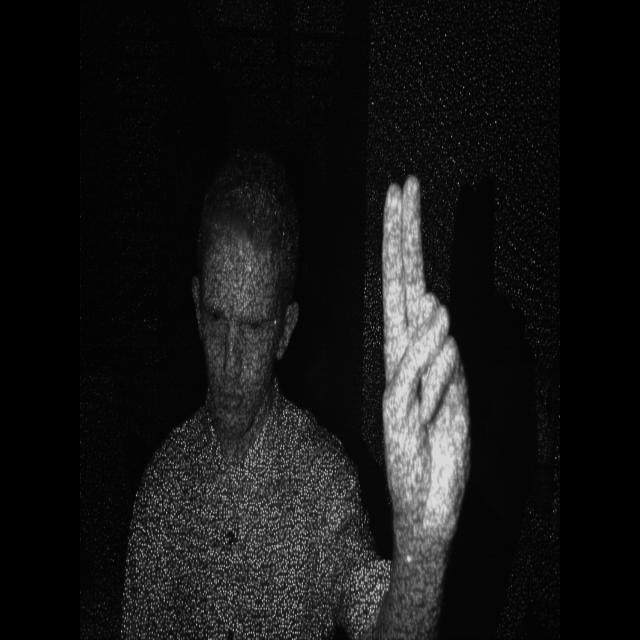U: (364, 158, 486, 554)
